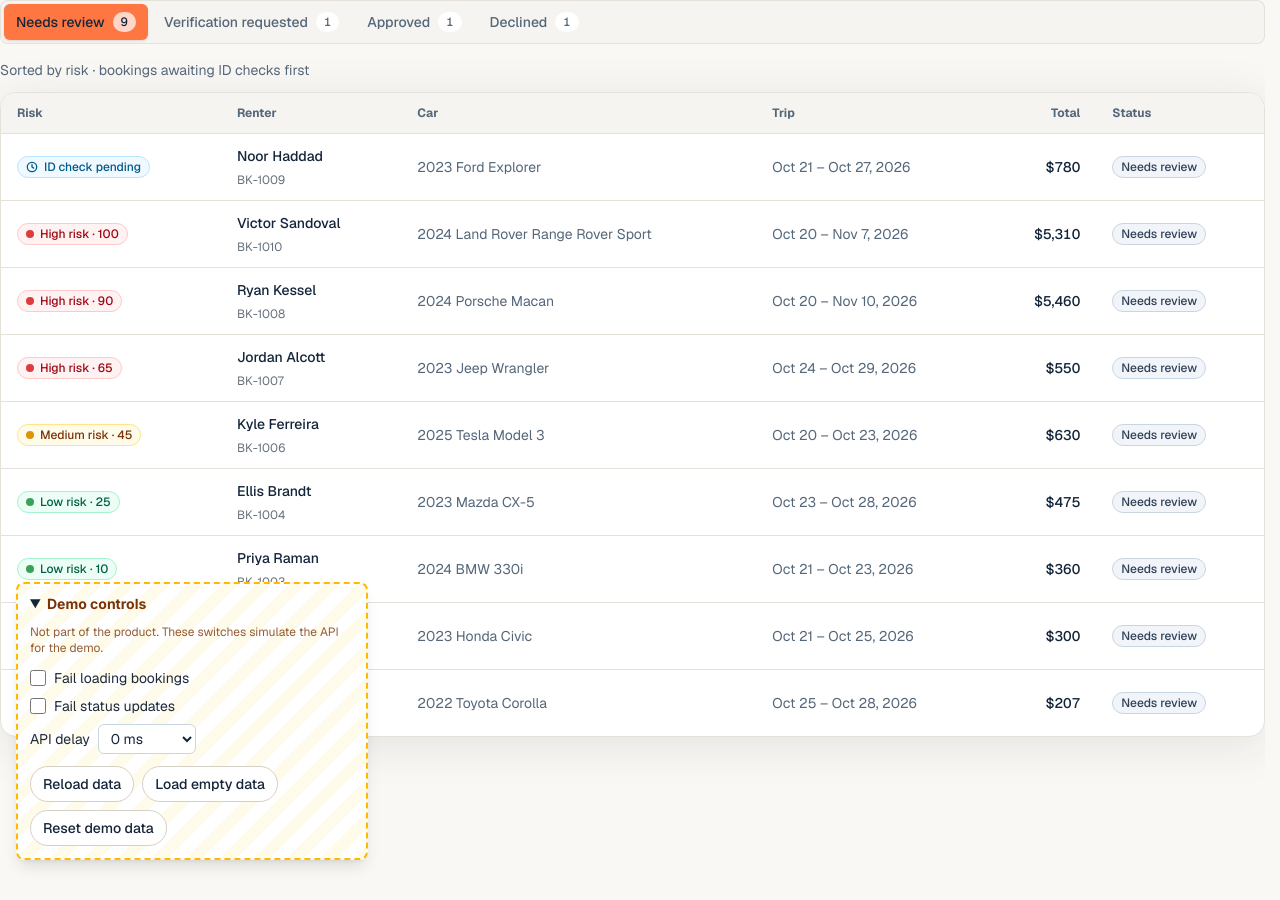
Scenario: Recommendations in the drawer › RC-11: a decline suggestion marks the Decline button "Recommended" in text
Expected: the element named "Booking status" is shown, [0,0,1265,44]
Click the button "Ryan Kessel". click: [277, 290]
box: [237,280,316,300]
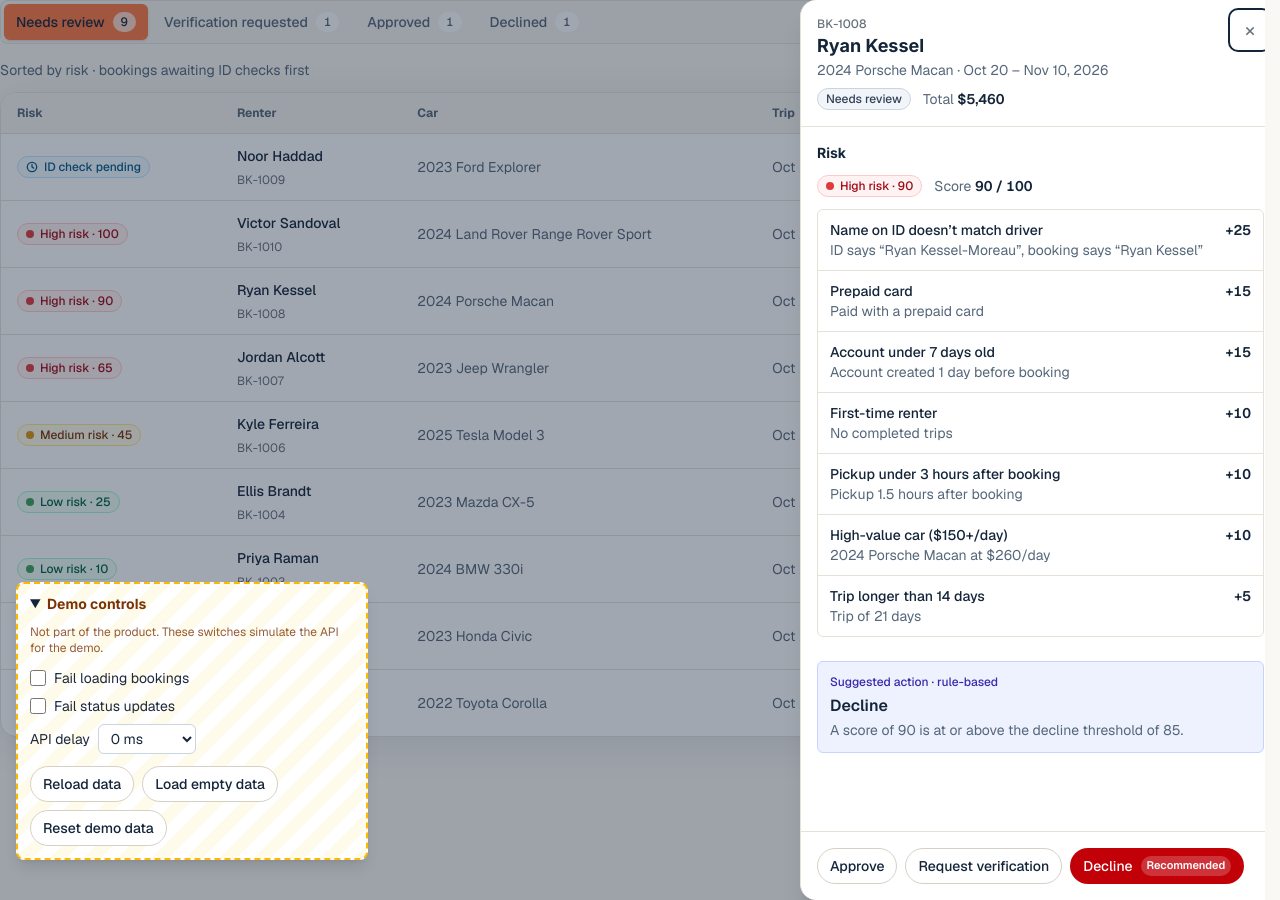
Result: the button "Decline Recommended" is enabled at [1070,848,1244,884]
Result: the button "Approve" is enabled at [817,848,898,884]
